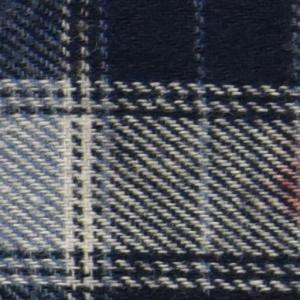Stain: (275, 135, 300, 226)
